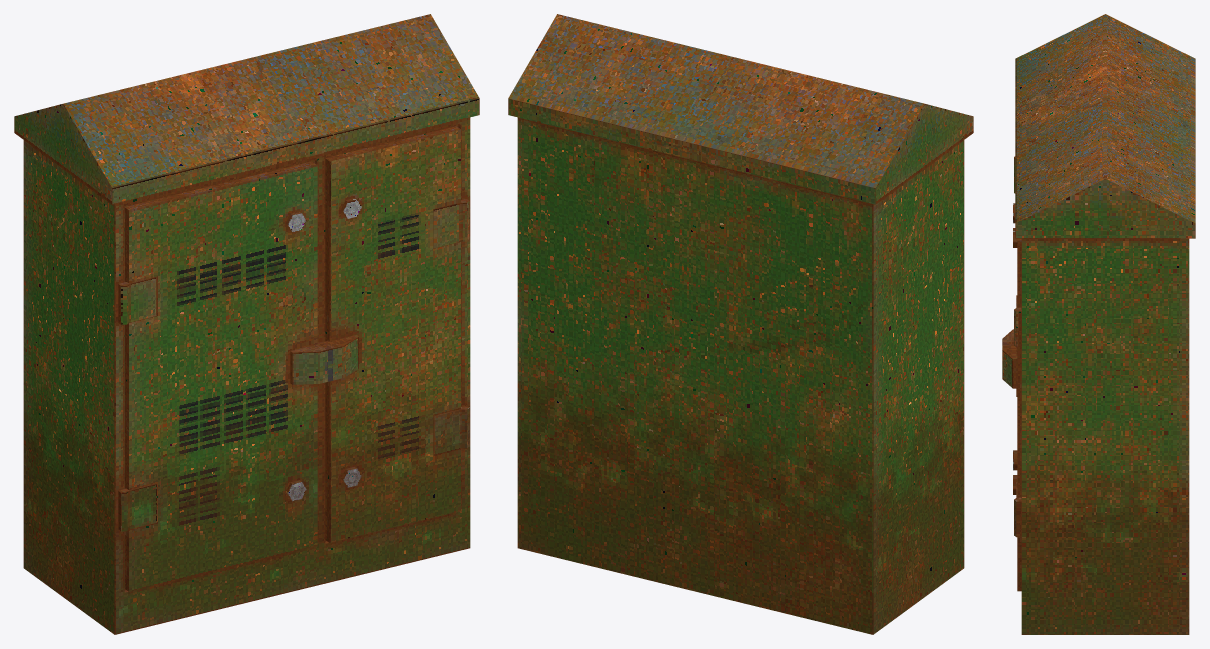
Rendered from Roadside_Junction_Box.glb.
3 renders of one model, left to right at view 1: azimuth 30°, elevation 25°; view 2: azimuth 150°, elevation 25°; view 3: azimuth 270°, elevation 25°, orthographic. The views are drawn at different scales.
Visible parts, largest first — view 1: Roadside_Junction_Box; view 2: Roadside_Junction_Box; view 3: Roadside_Junction_Box.
Boxes of the visible parts, bbox=[...] form: Roadside_Junction_Box: bbox=[14, 14, 479, 634]; Roadside_Junction_Box: bbox=[508, 14, 973, 634]; Roadside_Junction_Box: bbox=[1002, 14, 1195, 634].
Size of the model in its own units: 1.86 by 2.42 by 0.9221.
1 material, 1 textured.
